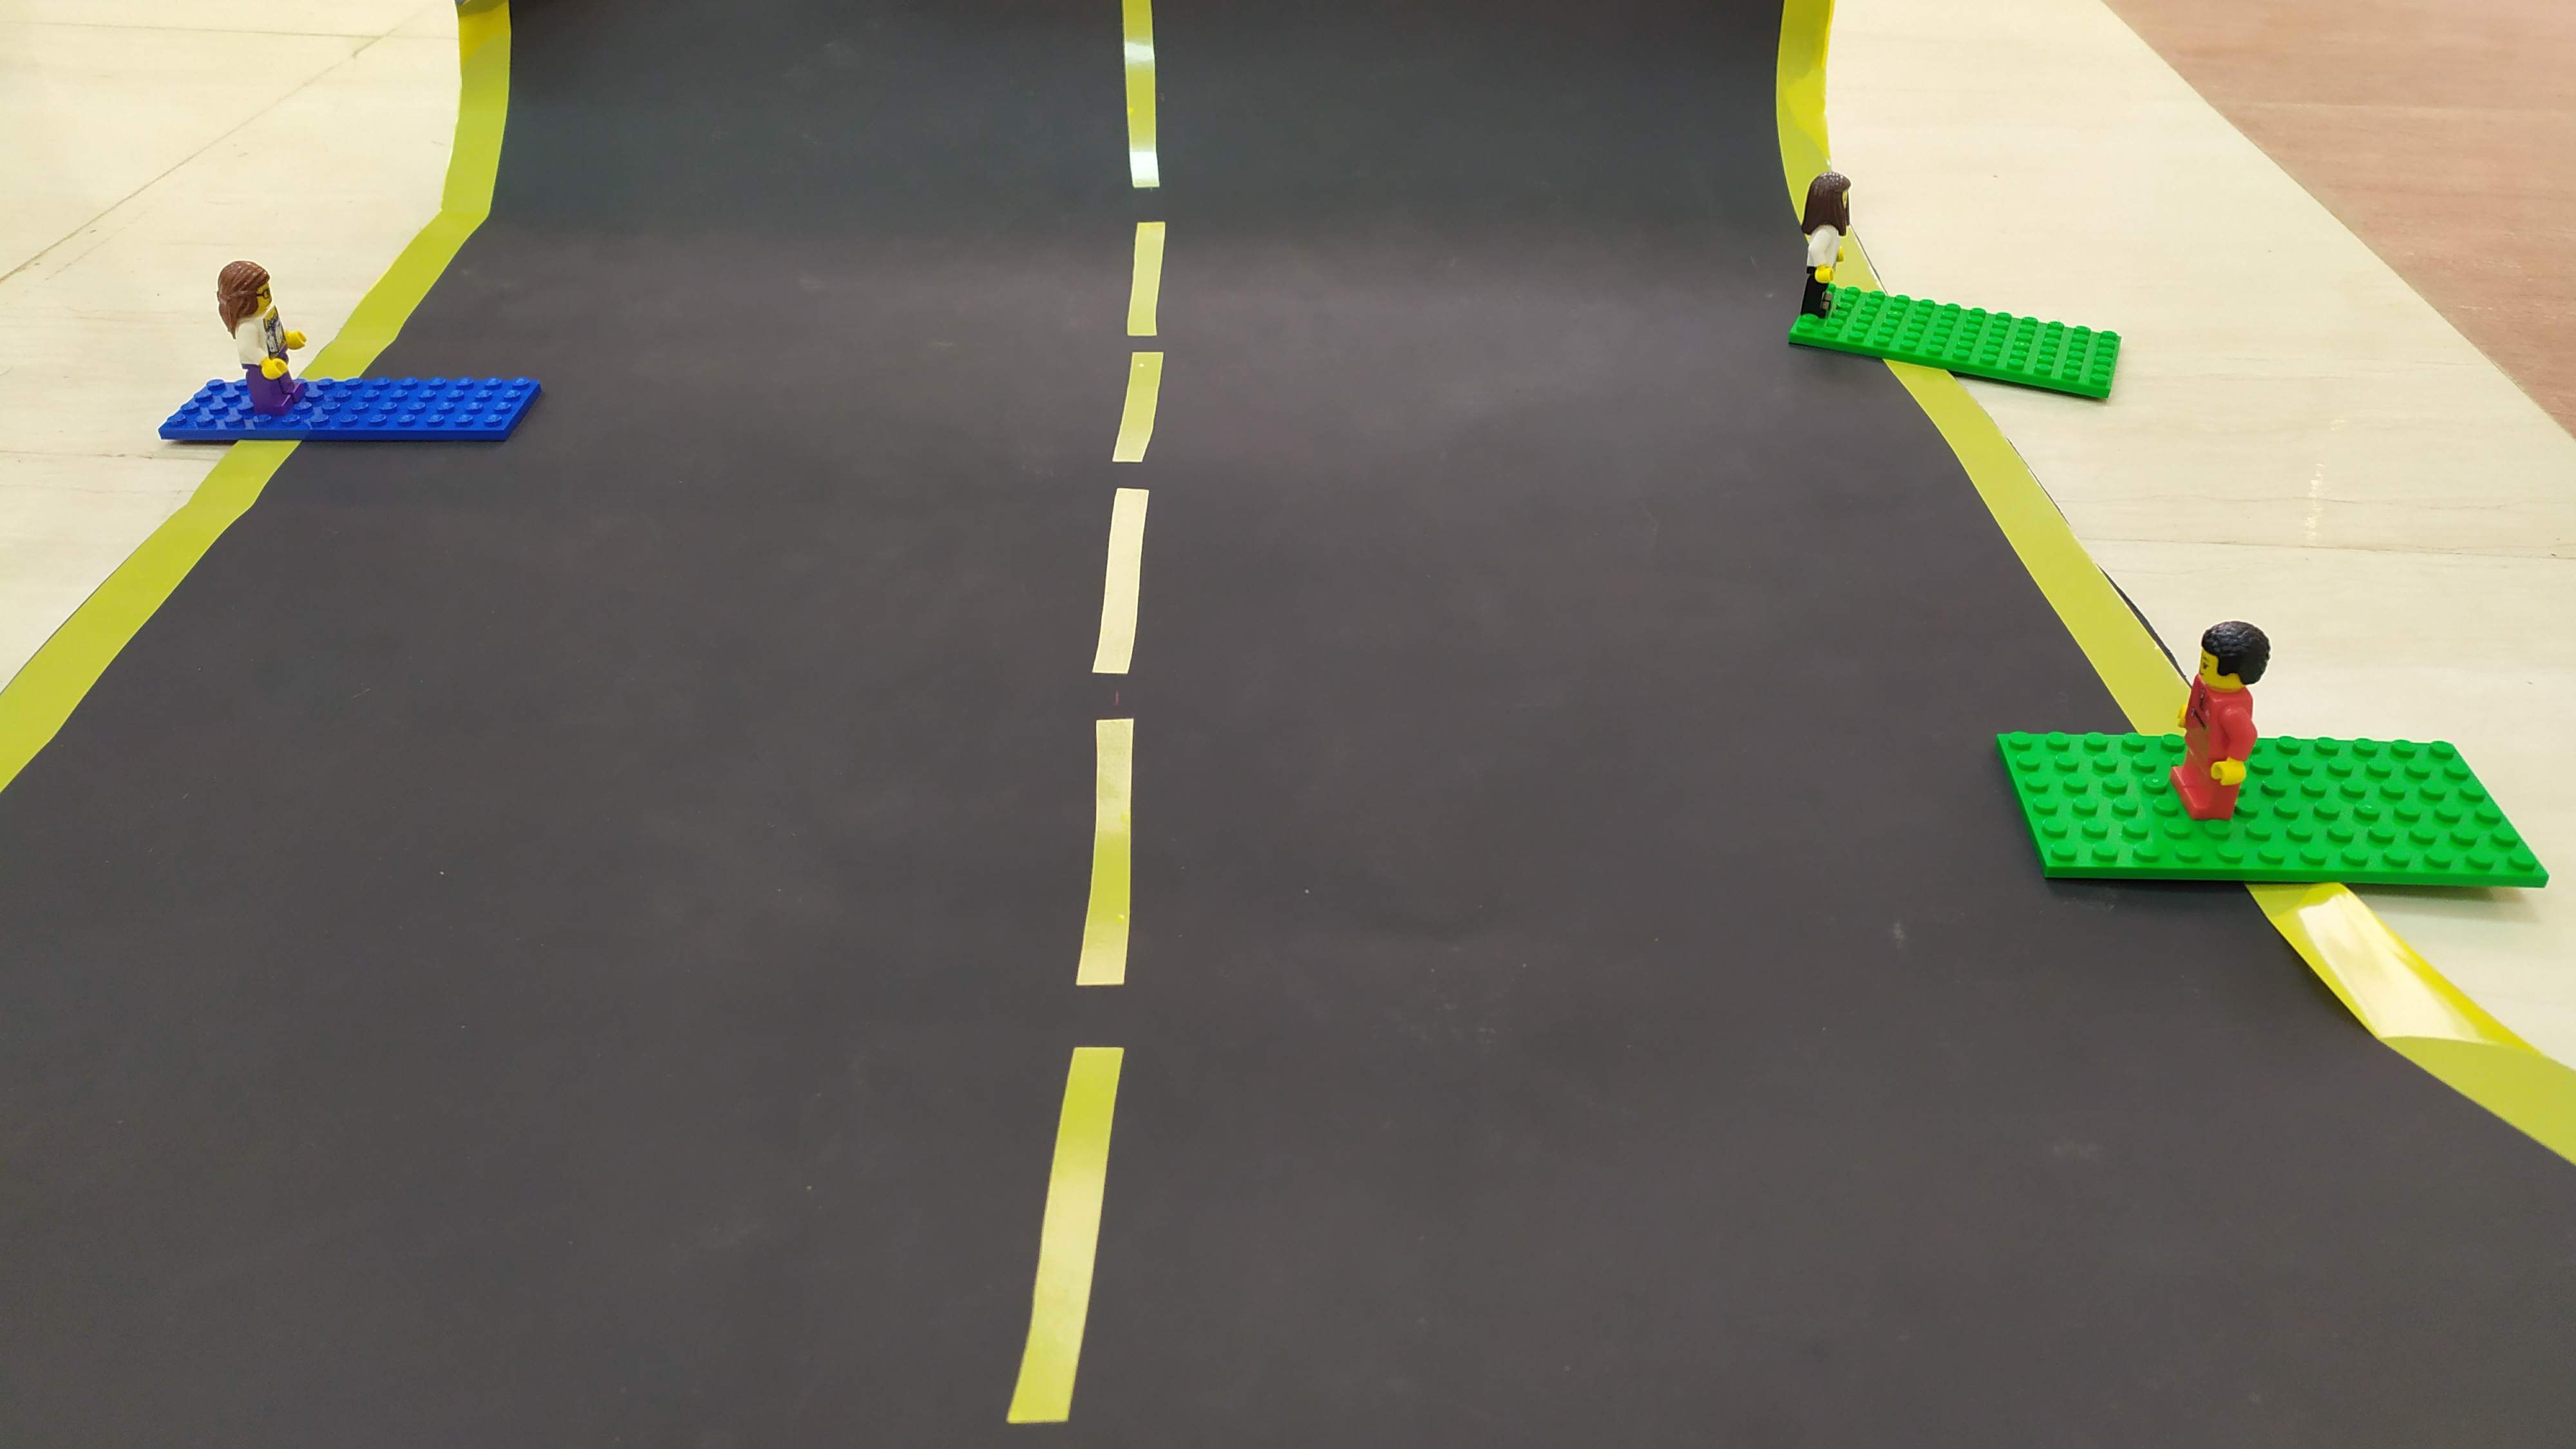Person: (2186, 615, 2289, 847), (203, 261, 325, 428), (1800, 164, 1890, 345)
